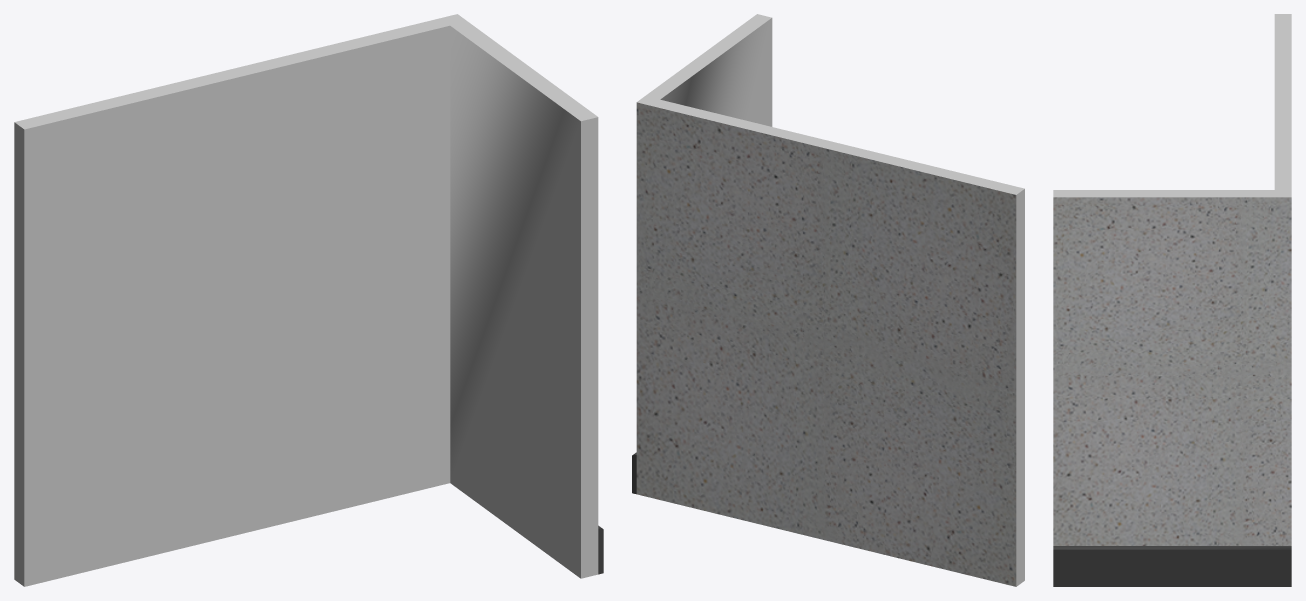
The model's file is House_Corridor_Corner2.fbx.
The picture shows the model from 3 angles, left to right: view 1: azimuth 30°, elevation 25°; view 2: azimuth 150°, elevation 25°; view 3: azimuth 270°, elevation 25°; orthographic projection. The views are drawn at different scales.
Visible parts, largest first — view 1: House_Wall_Full__20_.001; view 2: House_Wall_Full__20_.001; view 3: House_Wall_Full__20_.001.
Boxes of the visible parts, left/top/right/bottom form: House_Wall_Full__20_.001: left=14, top=14, right=603, bottom=586; House_Wall_Full__20_.001: left=632, top=14, right=1024, bottom=586; House_Wall_Full__20_.001: left=1053, top=14, right=1291, bottom=586.
Size of the model in its own units: 257 by 250 by 140.
